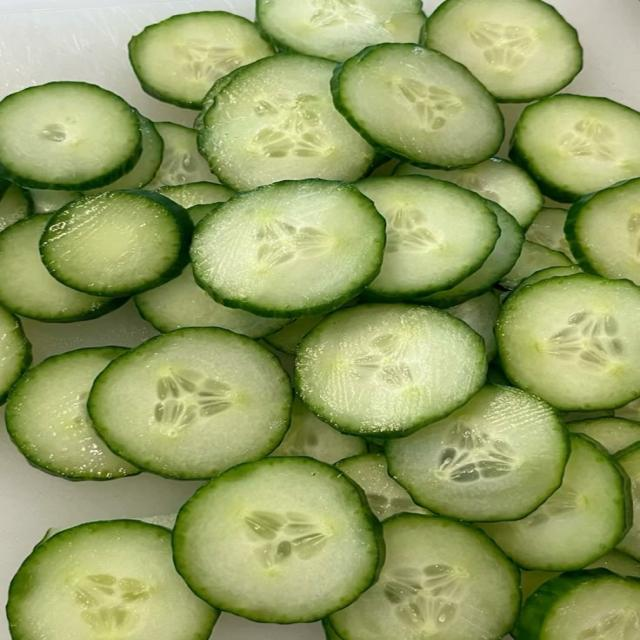cucumber sliced: (174, 458, 382, 623), (89, 329, 291, 478), (191, 180, 385, 317), (295, 305, 486, 437), (7, 520, 218, 639), (386, 386, 569, 521), (199, 54, 374, 190), (330, 514, 519, 639), (333, 44, 504, 167), (482, 434, 631, 570), (496, 275, 639, 411), (356, 176, 499, 300), (6, 347, 139, 479), (40, 191, 193, 296), (425, 0, 582, 102), (0, 82, 141, 190), (129, 12, 273, 108), (511, 94, 639, 202), (0, 214, 125, 322), (416, 201, 524, 307), (135, 266, 290, 338), (256, 0, 426, 61), (394, 158, 543, 227), (513, 569, 639, 639), (565, 179, 639, 284), (86, 113, 164, 194), (336, 453, 429, 520), (272, 398, 366, 463), (147, 122, 219, 189), (446, 291, 500, 361), (500, 241, 574, 289), (0, 306, 31, 403), (194, 68, 241, 131), (568, 417, 639, 454), (617, 442, 639, 561), (266, 315, 325, 355), (527, 208, 573, 259), (156, 182, 234, 208), (514, 264, 583, 292), (0, 184, 33, 232), (585, 550, 639, 578), (587, 550, 639, 578), (29, 190, 82, 213), (560, 410, 617, 424), (187, 203, 221, 225), (614, 398, 640, 421), (322, 619, 341, 639)
